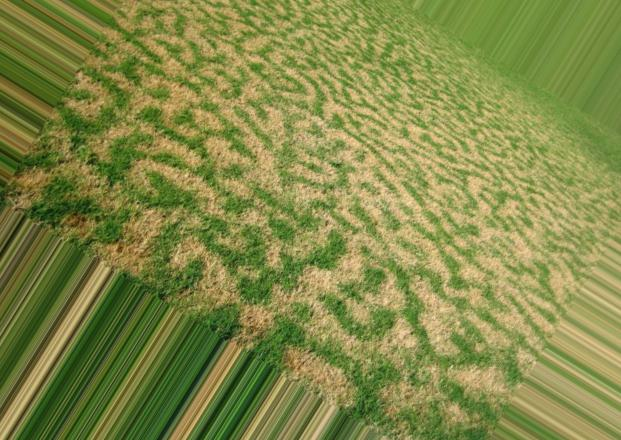patch: (172, 13, 577, 300), (309, 362, 335, 385), (122, 240, 148, 262), (131, 214, 155, 235), (215, 272, 235, 296), (181, 175, 198, 202), (403, 224, 427, 241), (298, 286, 323, 302), (258, 151, 270, 180), (316, 272, 345, 282), (314, 270, 343, 280), (435, 319, 445, 347), (187, 240, 210, 252)
